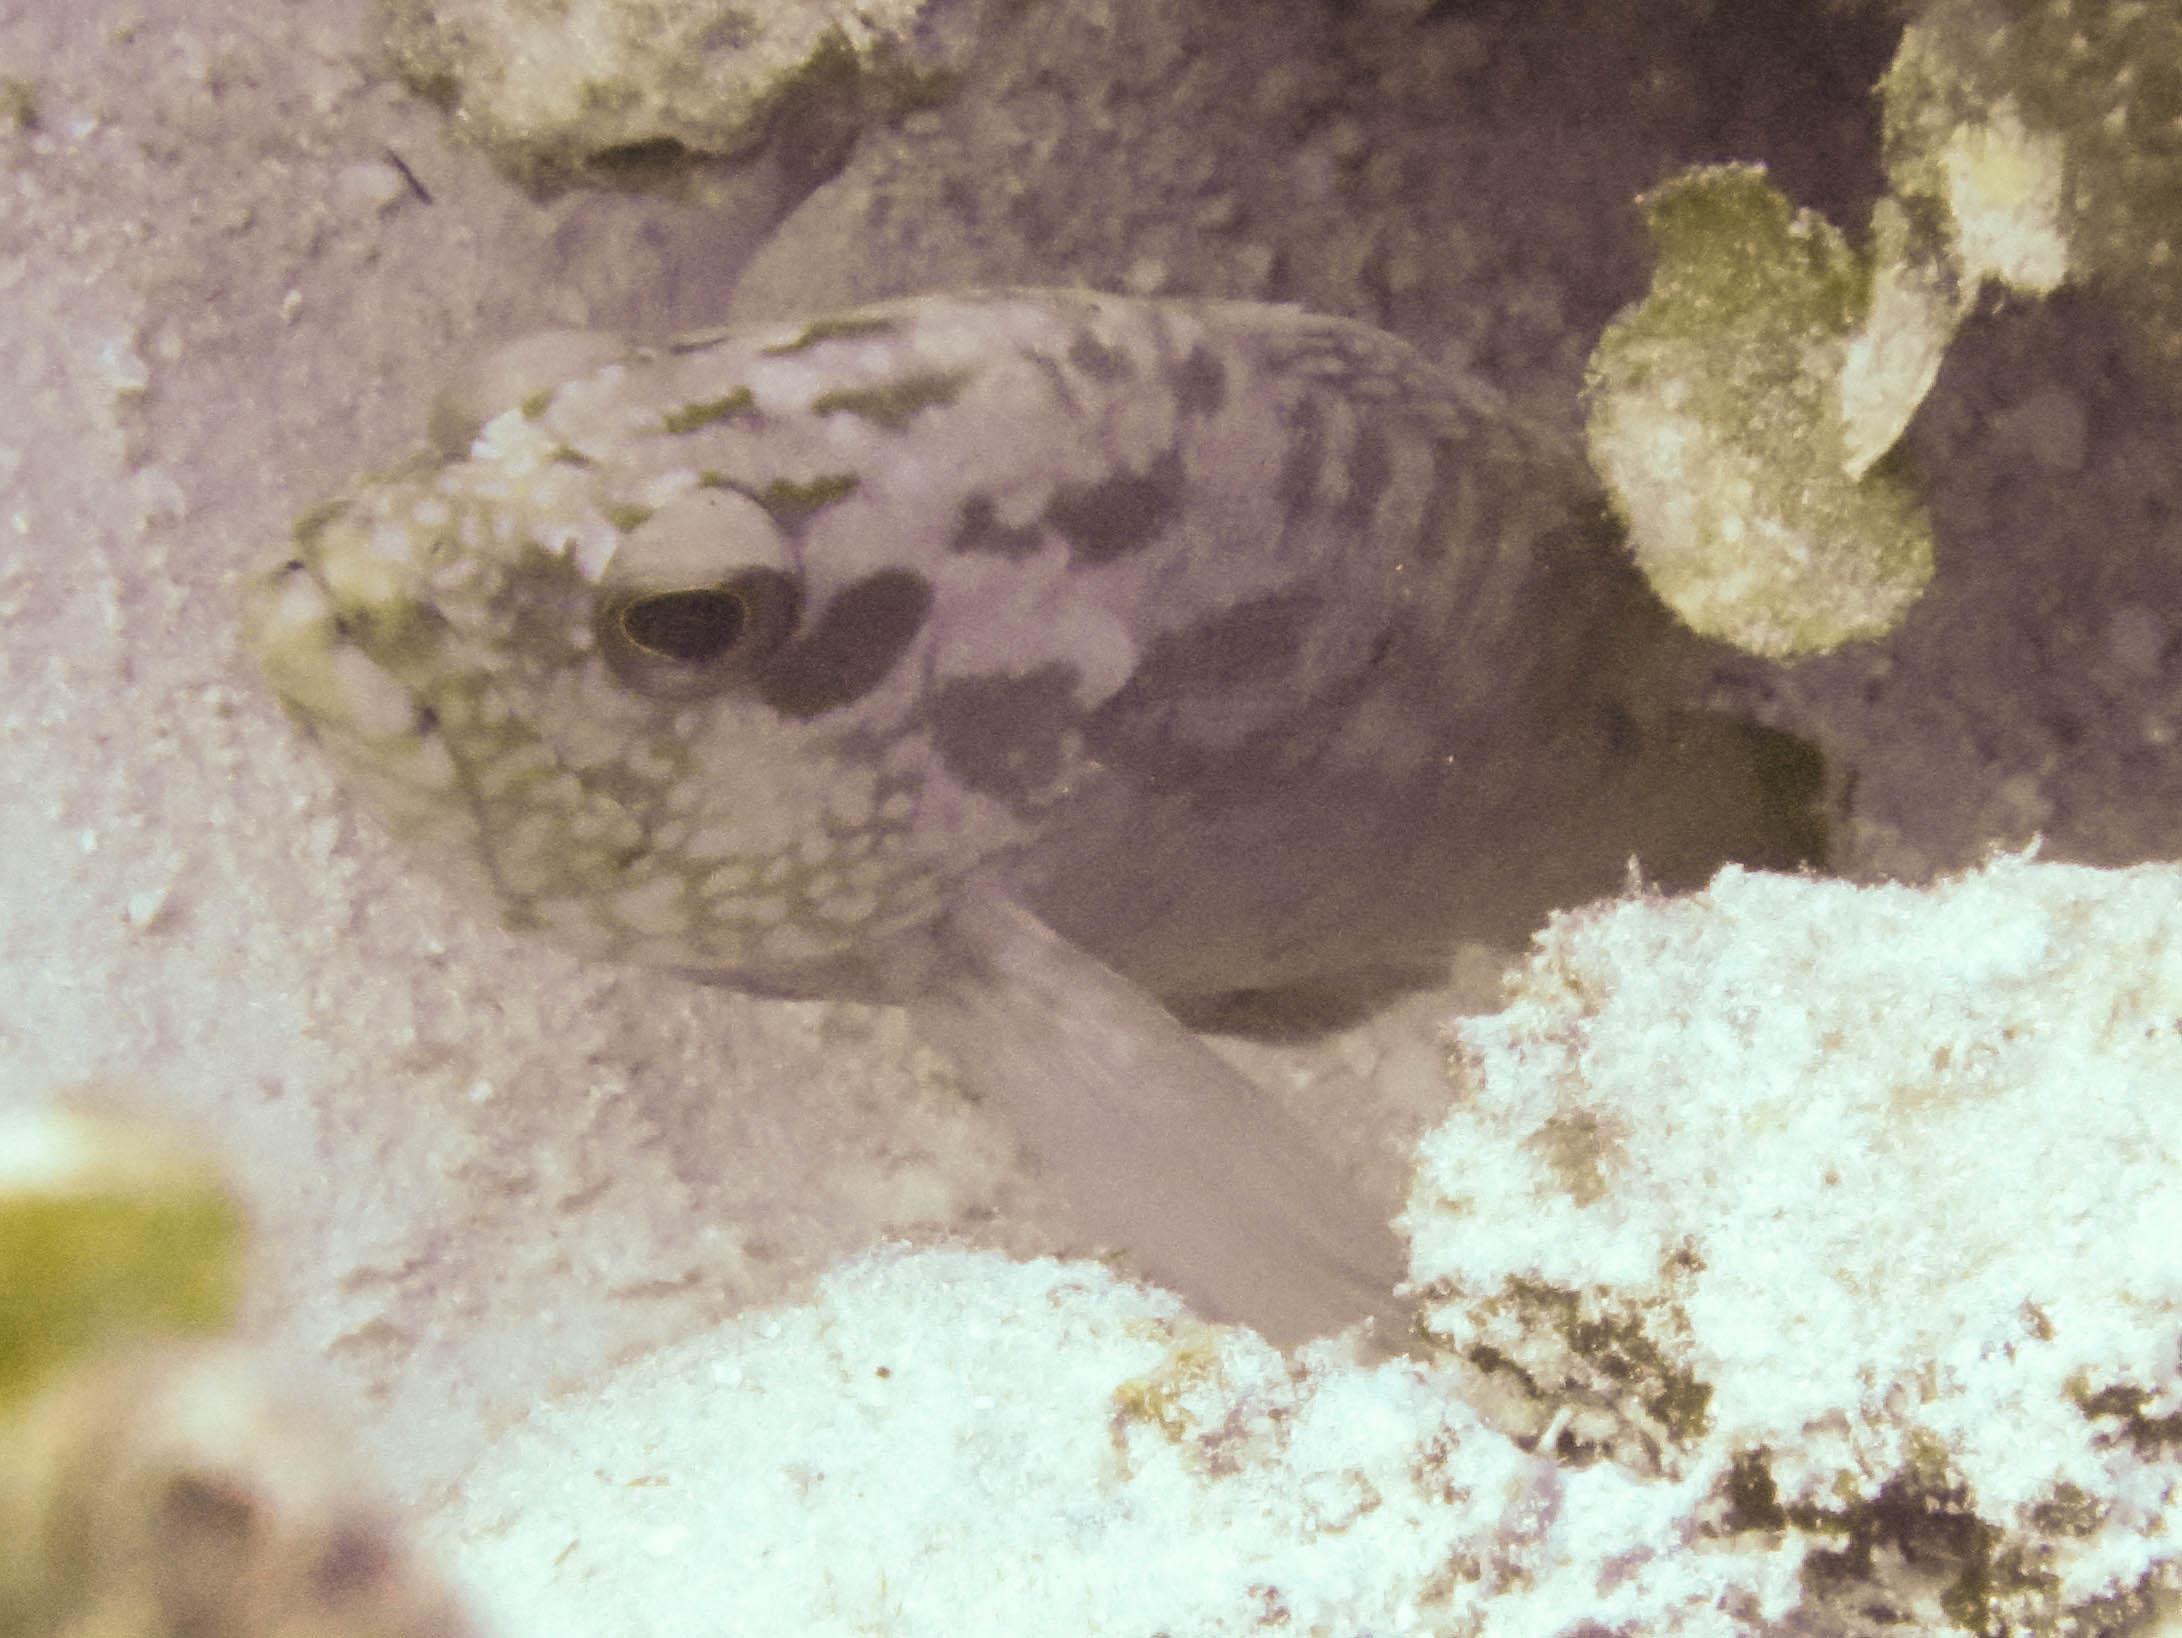Fish: (243, 280, 1857, 1339)
